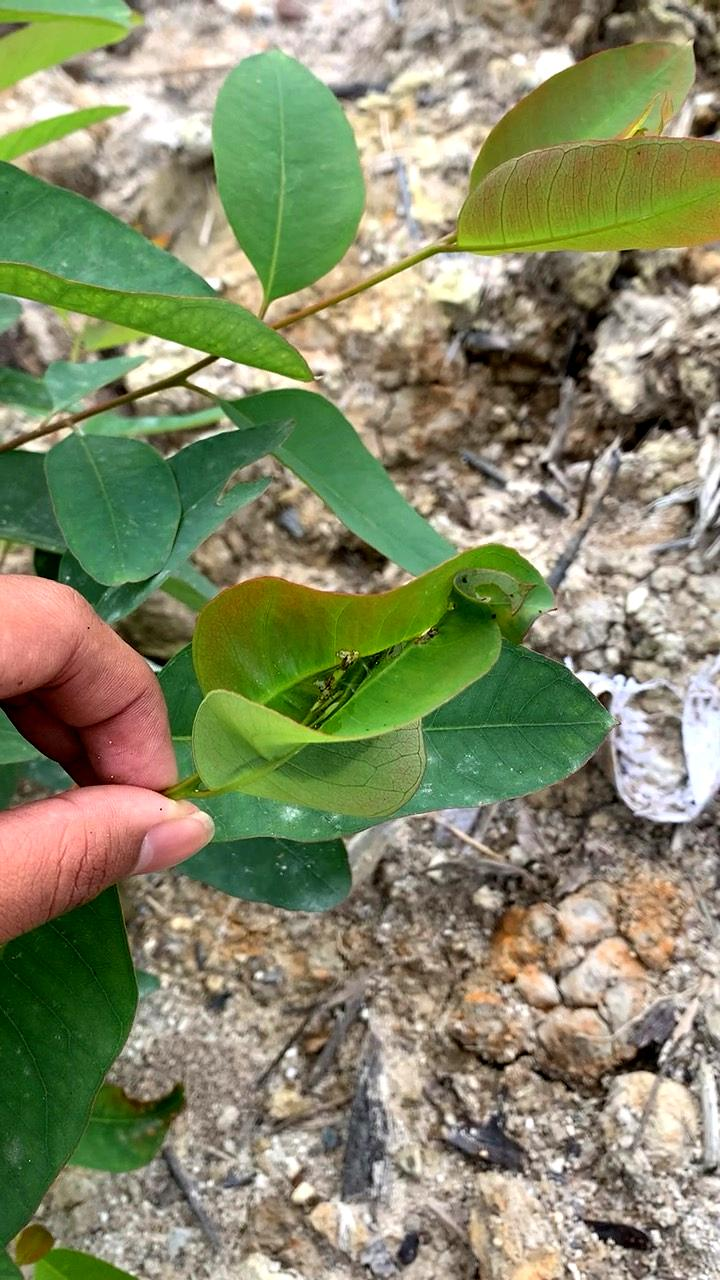Leaf Roller - Leaf: (125, 536, 590, 812)
